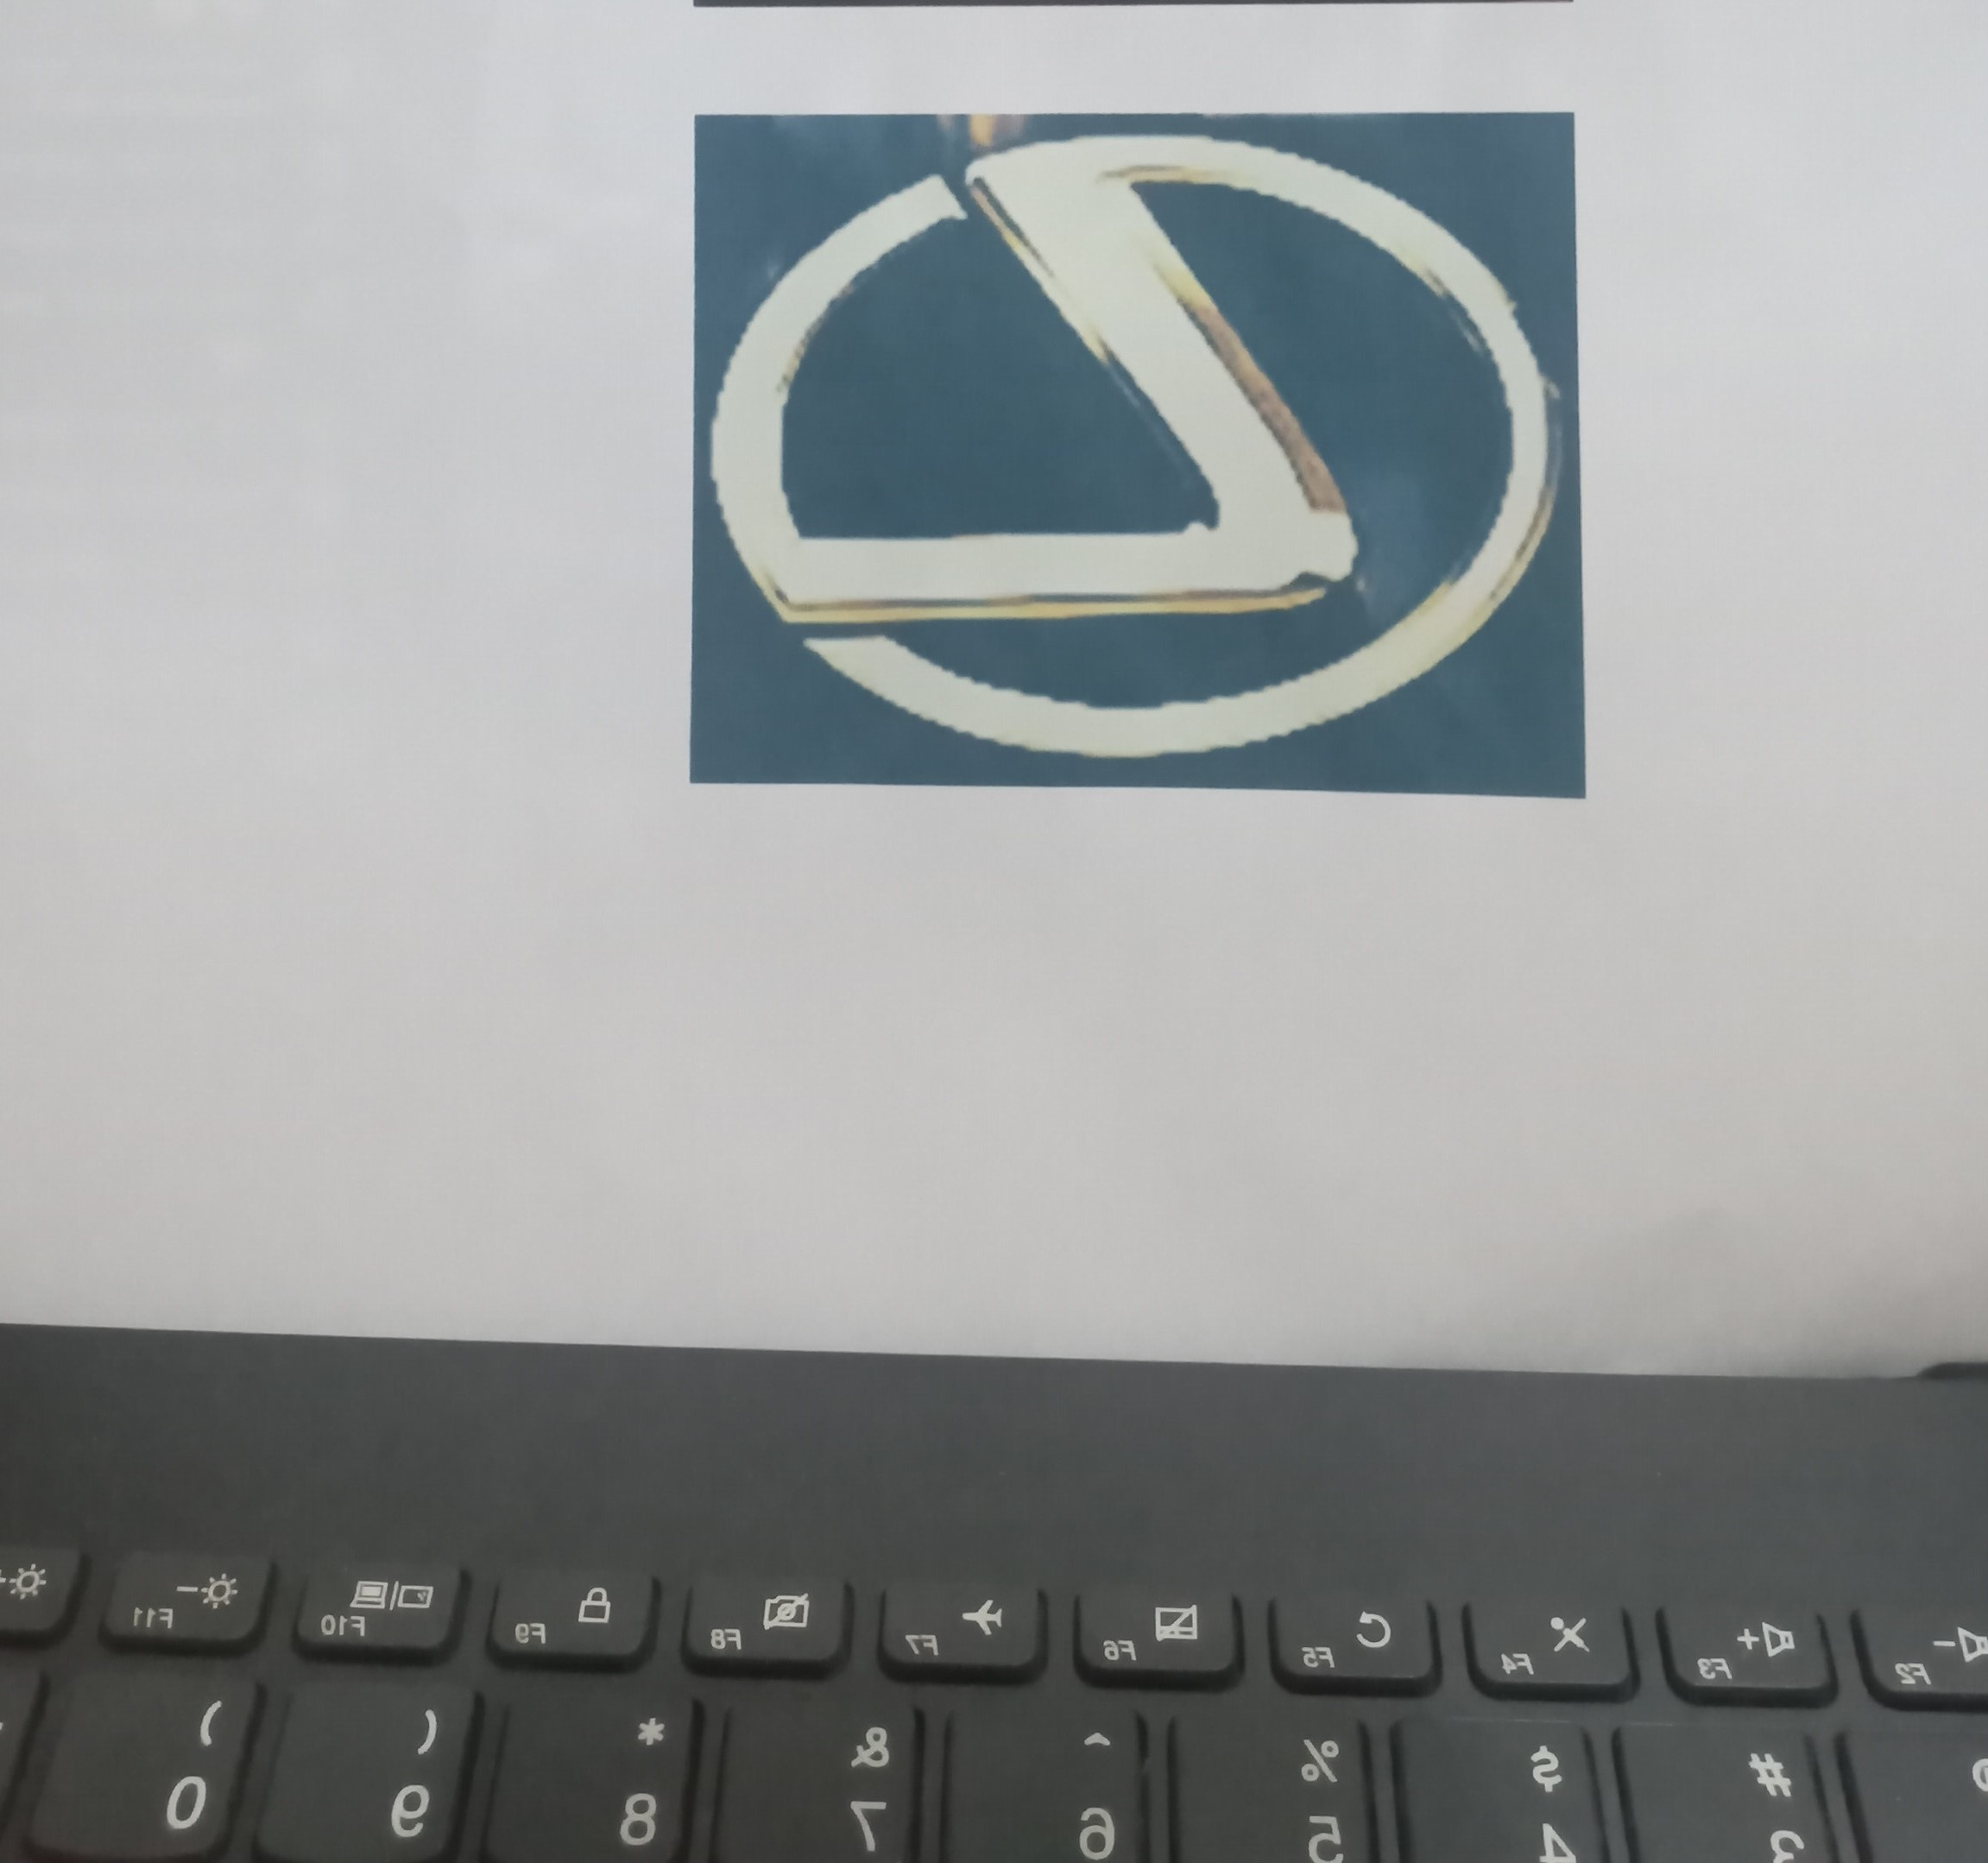Lexus: (698, 117, 1571, 795)
